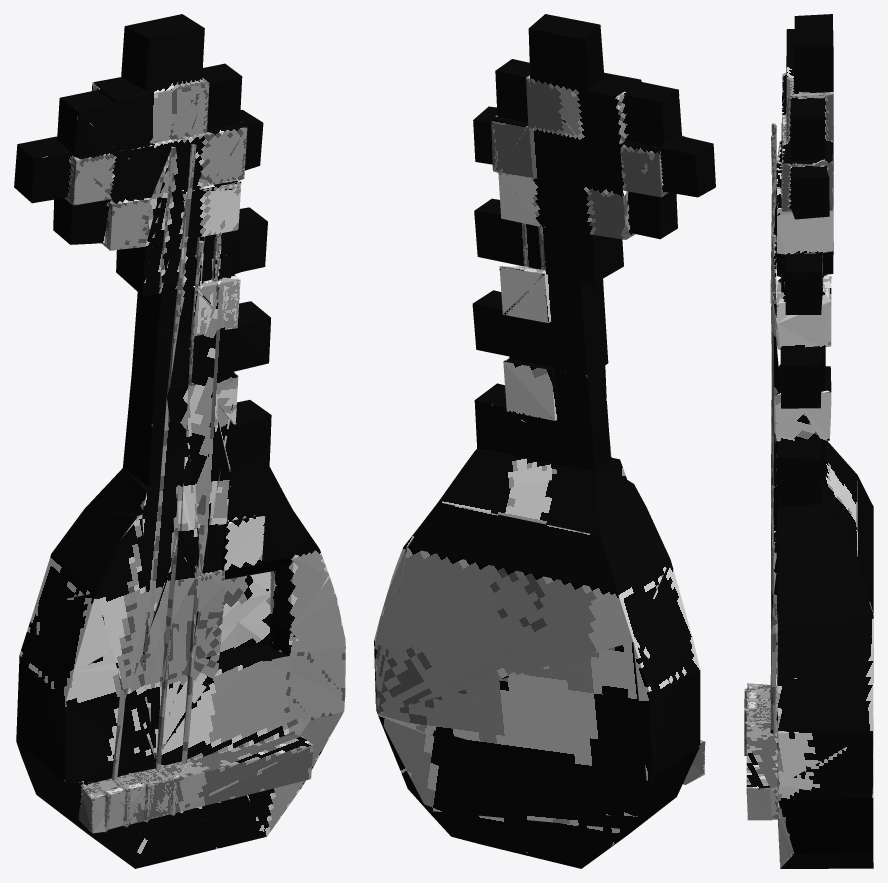
3 renders of one model, left to right at view 1: azimuth 30°, elevation 25°; view 2: azimuth 150°, elevation 25°; view 3: azimuth 270°, elevation 25°, orthographic. The views are drawn at different scales.
Parts seen in each view (by area): view 1: OBJ123; view 2: OBJ123; view 3: OBJ123.
Boxes of the visible parts, x1,y1,x2,y2 form: OBJ123: (14,14,345,868); OBJ123: (374,14,715,868); OBJ123: (744,14,873,868).
Bounding box in the file's own units: 0.1751 × 0.4478 × 0.0656.
1 material, 1 textured.
